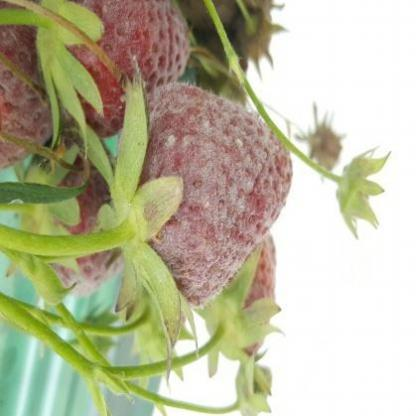Strawberry_Powdery_Mildew_Fruit: (116, 81, 296, 310), (39, 0, 192, 139), (19, 136, 124, 297), (0, 0, 65, 170)
